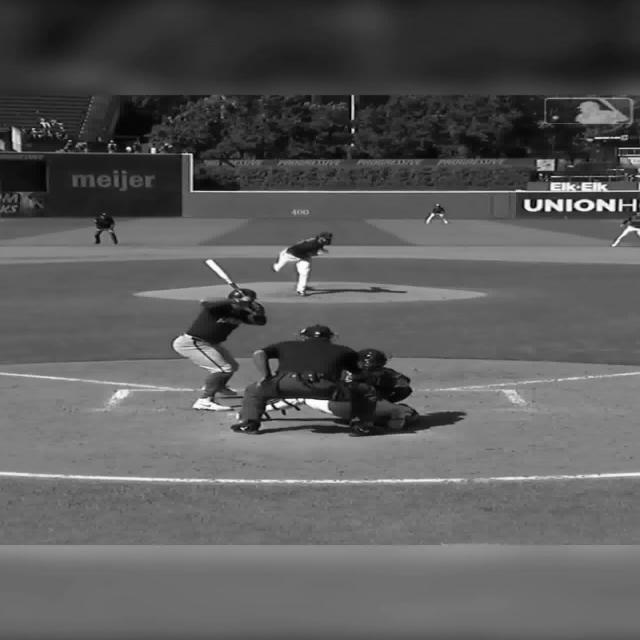bat: (204, 259, 247, 301)
shoe: (193, 398, 231, 411)
